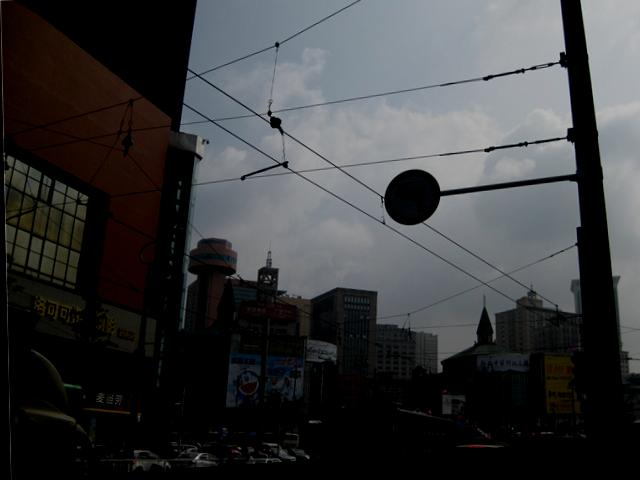not_turn_left: (381, 168, 440, 234)
